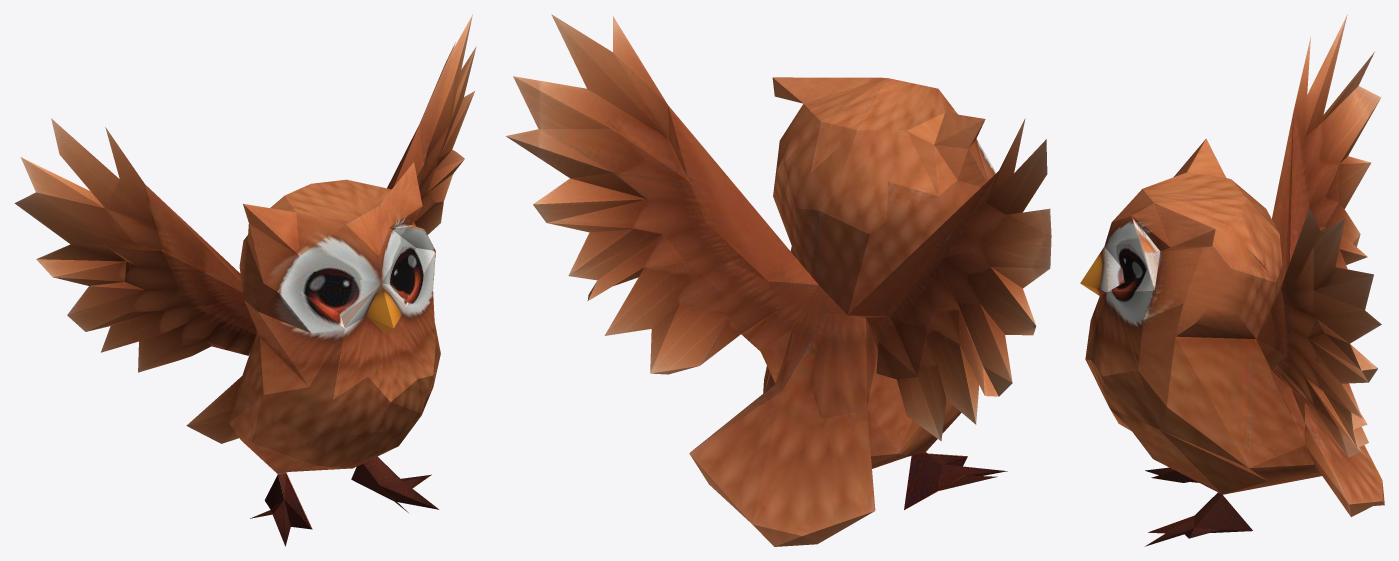
File: begleiter.glb
The picture shows the model from 3 angles, left to right: view 1: azimuth 30°, elevation 25°; view 2: azimuth 150°, elevation 25°; view 3: azimuth 270°, elevation 25°; orthographic projection. The views are drawn at different scales.
Bounding box in the file's own units: 1.89 × 1.53 × 1.07.
Materials: 1 (1 with a texture image).
